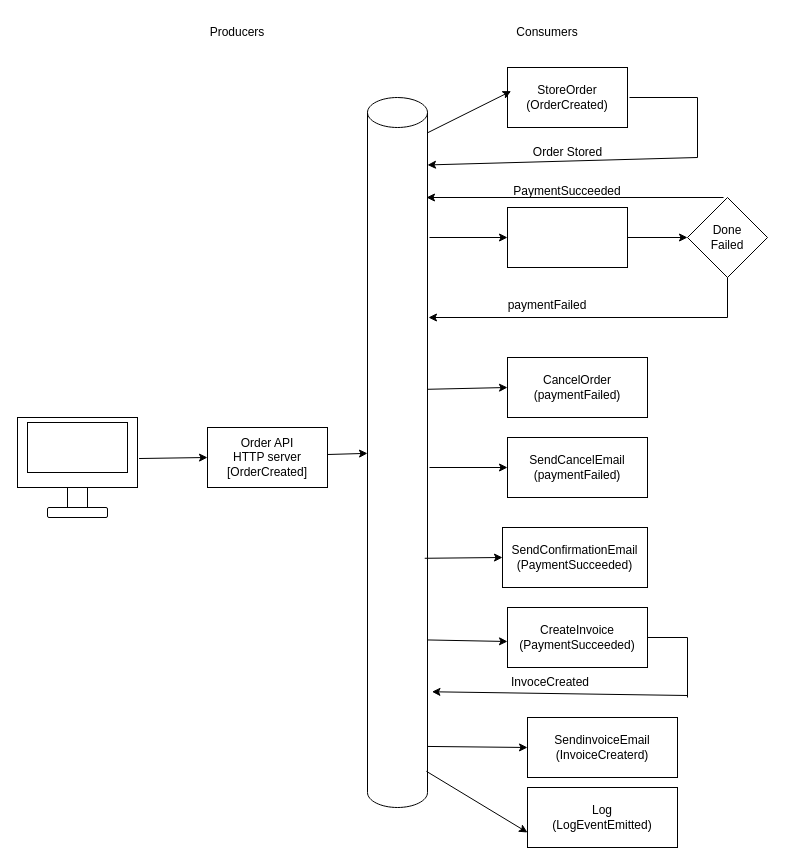
Image size: 785x865. Some labels were removed from this diagram. Each missing label, with the centre of its shape:
"Payment (OrderPersisted)" goes at pixel 567 237.
"Queue" goes at pixel 397 452.
"www.shop.com" goes at pixel 77 447.
